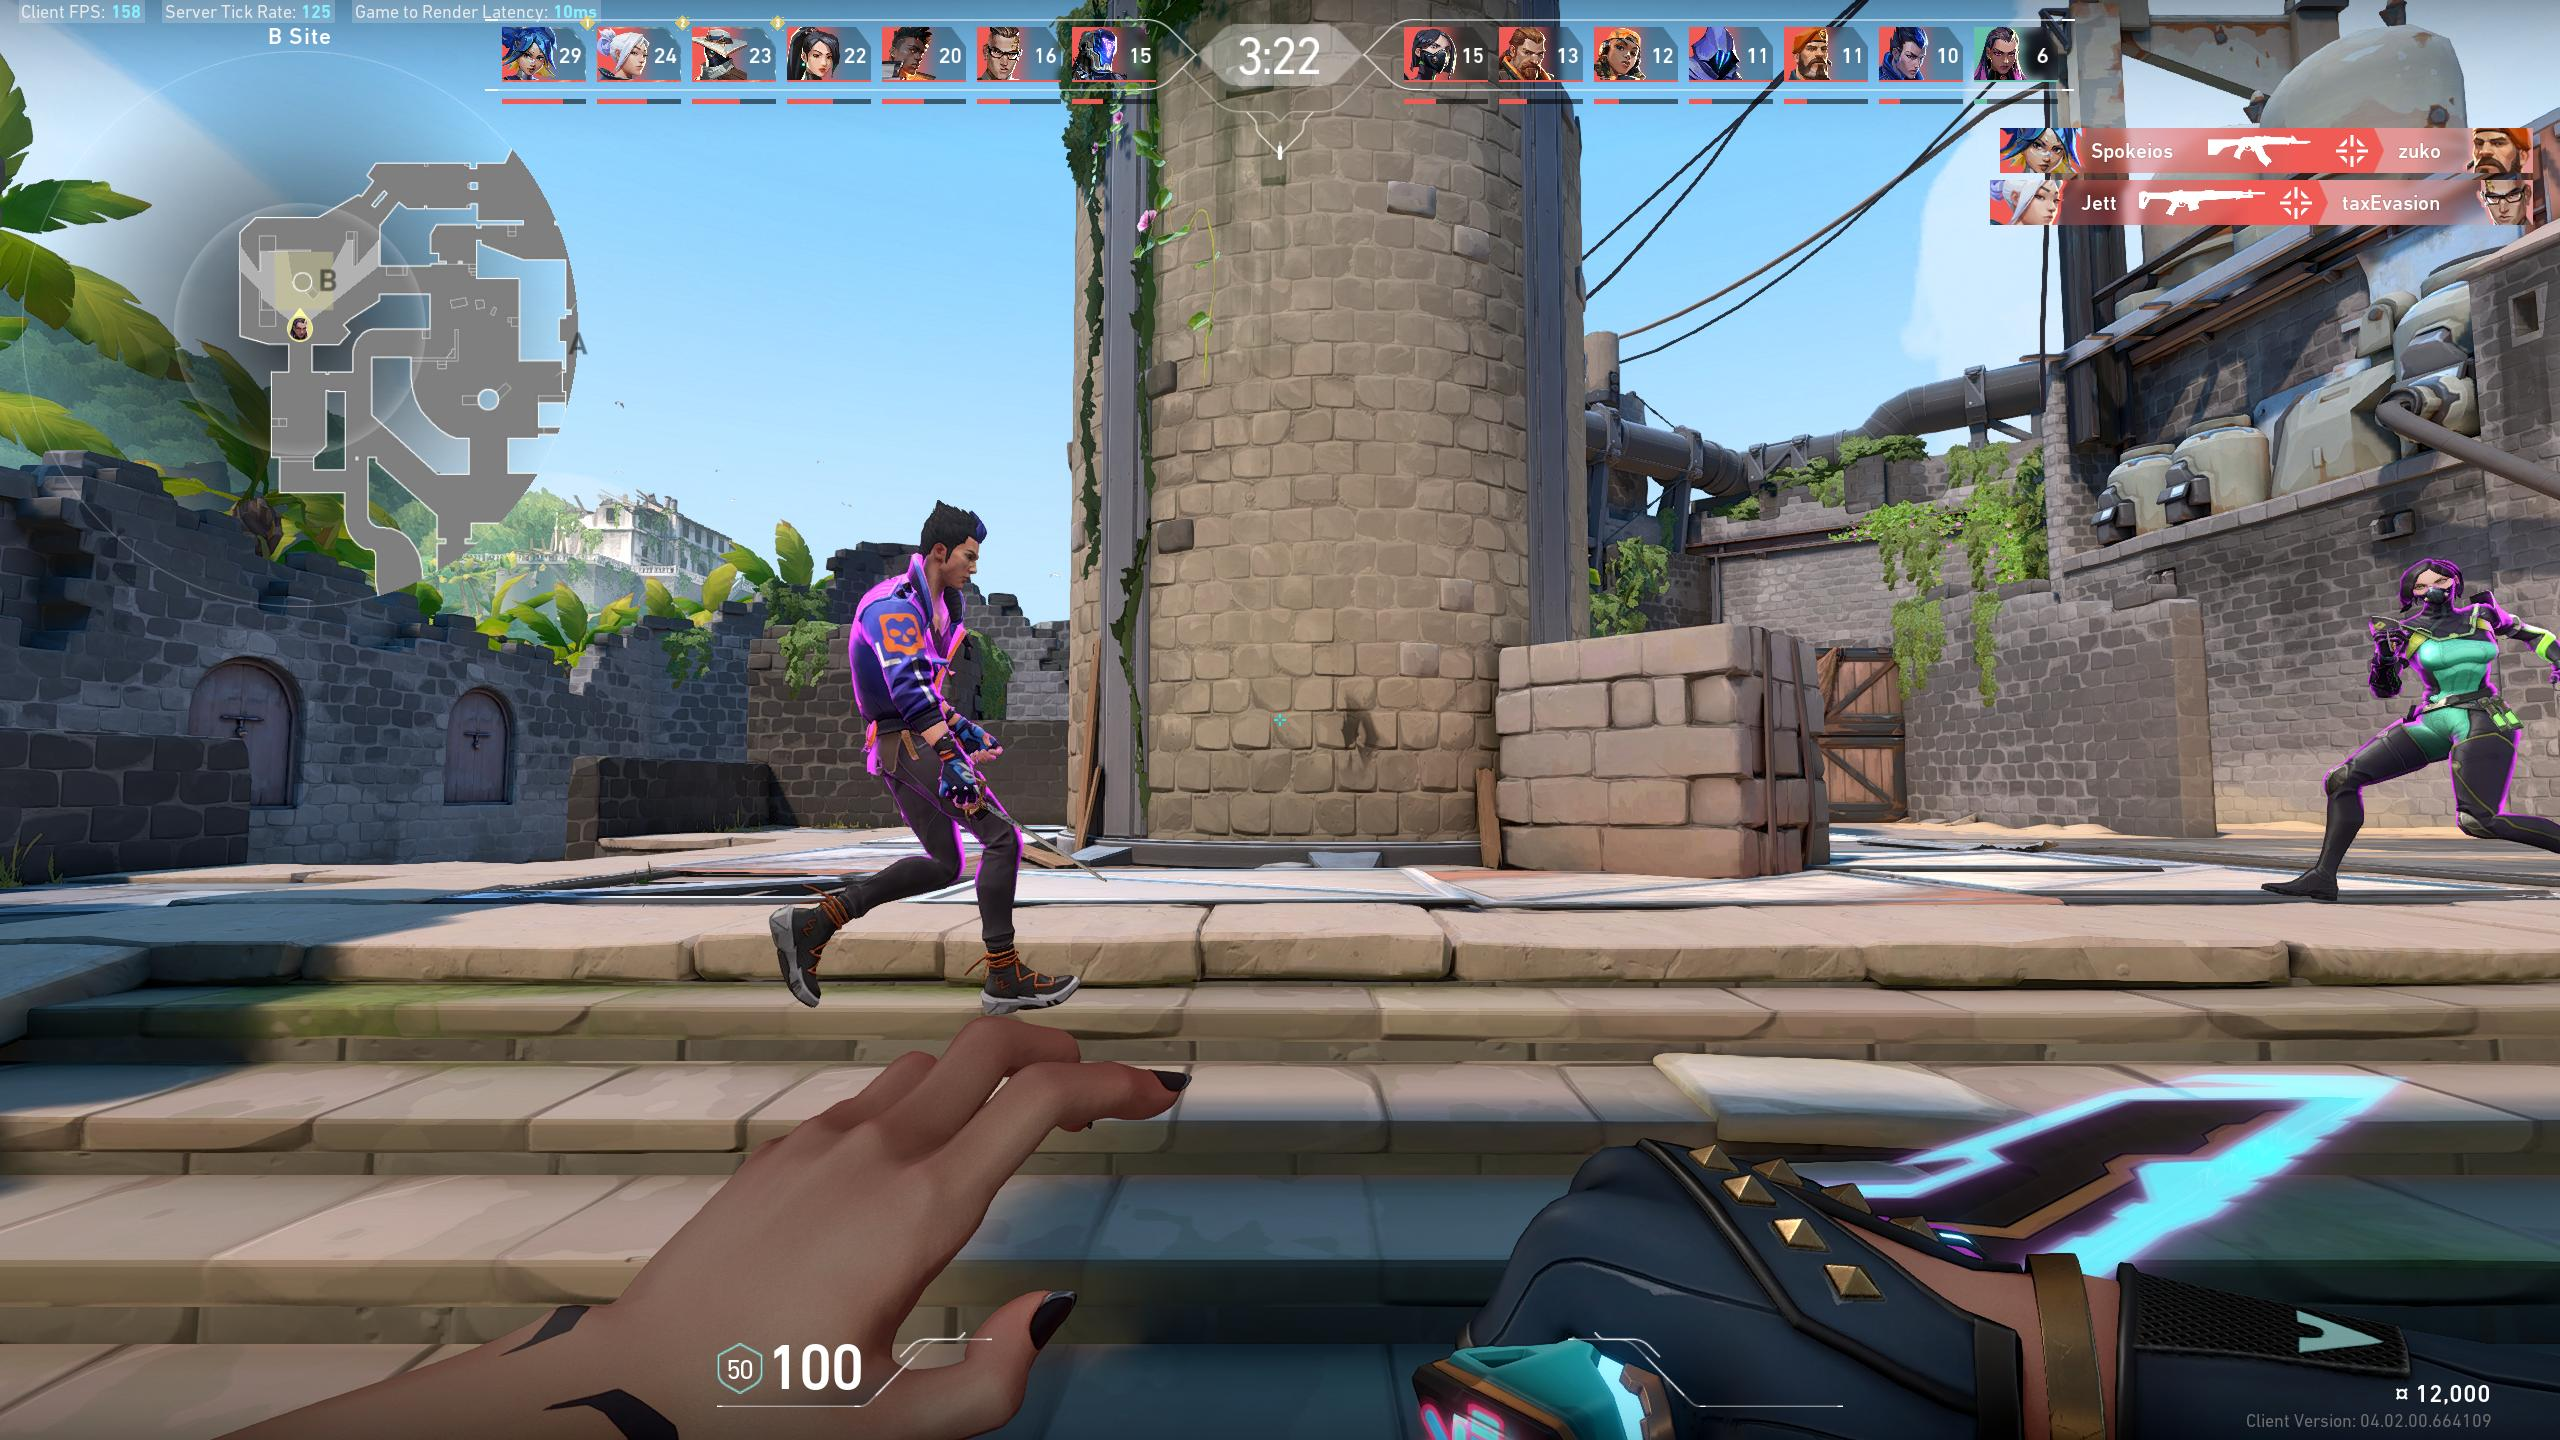enemyBody: (862, 596, 949, 696), (2418, 615, 2486, 684)
enemyHead: (930, 508, 979, 578), (2412, 557, 2451, 610)
